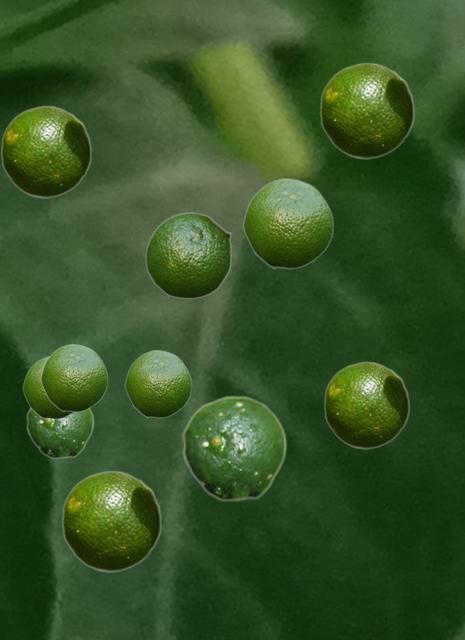calamansi: (182, 395, 286, 501), (61, 470, 161, 571), (319, 62, 414, 158), (0, 105, 91, 197), (242, 177, 333, 268), (323, 361, 409, 448), (145, 212, 231, 298), (124, 349, 191, 417), (40, 343, 107, 411), (26, 408, 93, 458), (22, 356, 74, 418)
